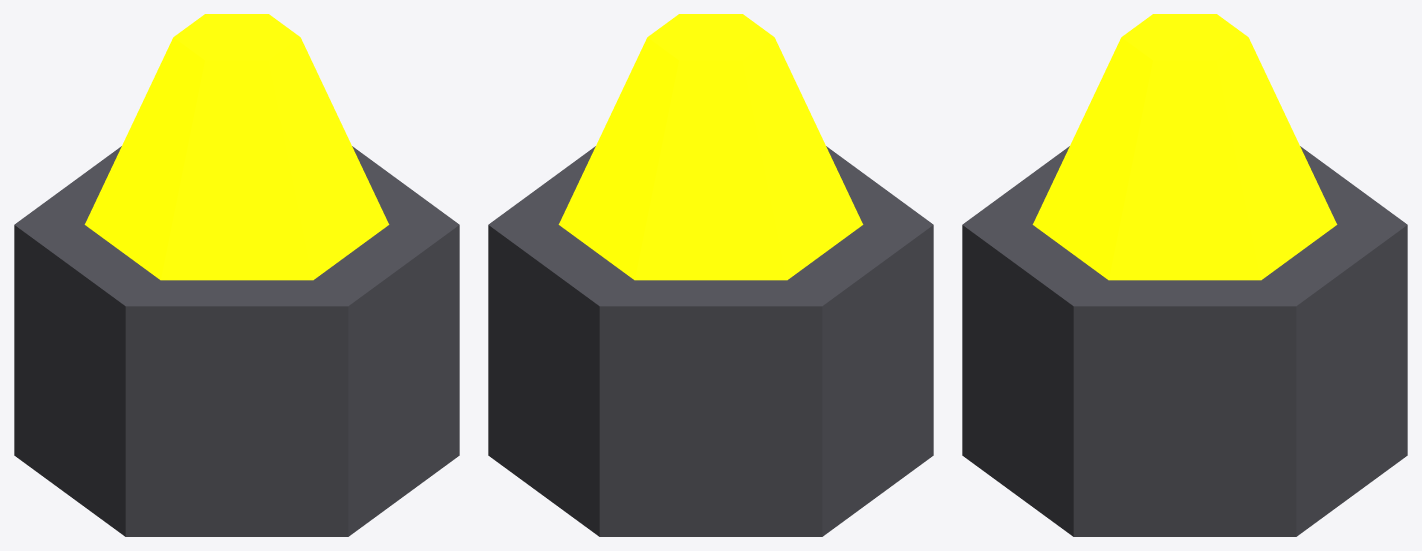
The model's file is tower_buff_lod1.glb.
The picture shows the model from 3 angles, left to right: view 1: azimuth 30°, elevation 25°; view 2: azimuth 150°, elevation 25°; view 3: azimuth 270°, elevation 25°; orthographic projection.
Parts seen in each view (by area): view 1: tower_buff_lod1; view 2: tower_buff_lod1; view 3: tower_buff_lod1.
Boxes of the visible parts, x1=… form: tower_buff_lod1: x1=14, y1=14, x2=459, y2=536; tower_buff_lod1: x1=488, y1=14, x2=933, y2=536; tower_buff_lod1: x1=962, y1=14, x2=1407, y2=536.
Size of the model in its own units: 0.6062 by 0.725 by 0.7.
